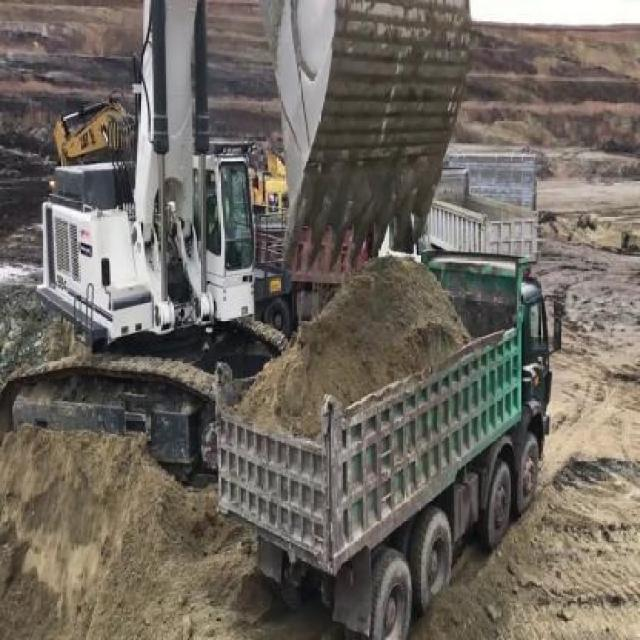Dump Truck: (227, 261, 553, 639), (424, 161, 539, 259)
Excavator: (6, 0, 485, 457)
